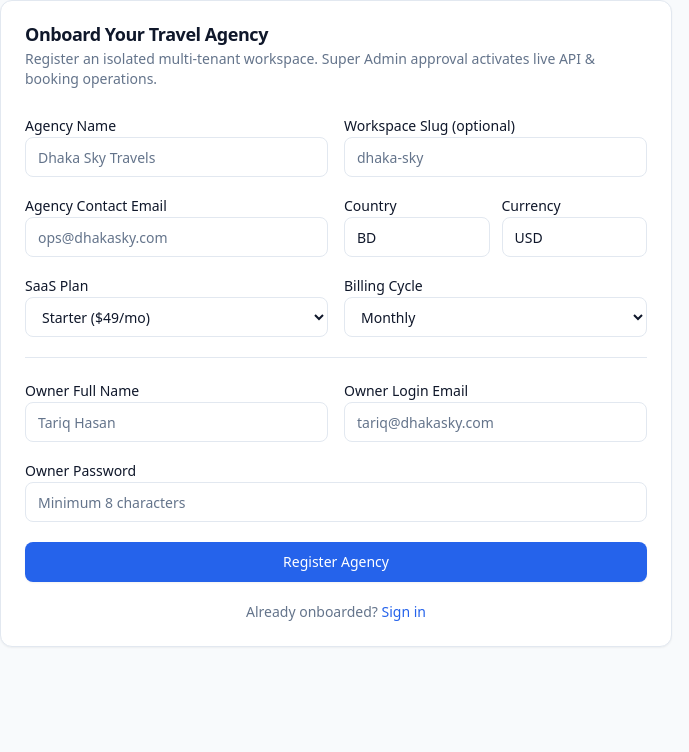
Test case: Phase 2 Multi-Tenant SaaS UI & RBAC Protection › validates required agency and owner fields in AgencyRegisterForm
Click the button "Register Agency" at (336, 562), box x1=25 y1=542 x2=647 y2=582
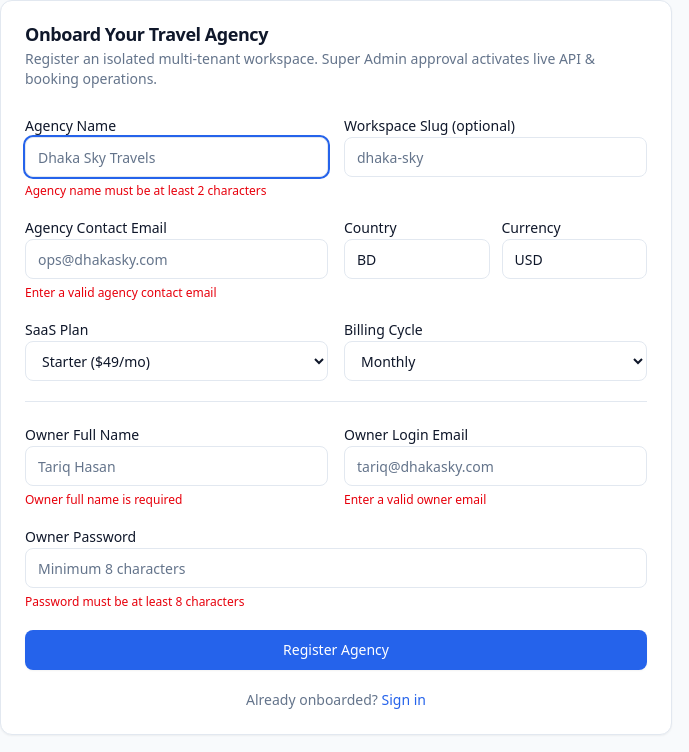
Now the text "Agency name must be at least 2 characters" is shown, box x1=25 y1=182 x2=266 y2=199
Now the text "Enter a valid agency contact email" is shown, box x1=25 y1=284 x2=217 y2=301
Now the text "Owner full name is required" is shown, box x1=25 y1=491 x2=182 y2=508
